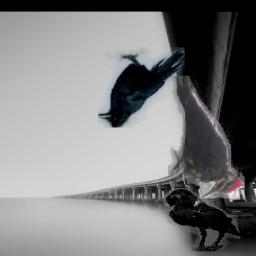Crow: (99, 47, 186, 128), (164, 188, 240, 251)
Woodpecker: (168, 76, 245, 198)
